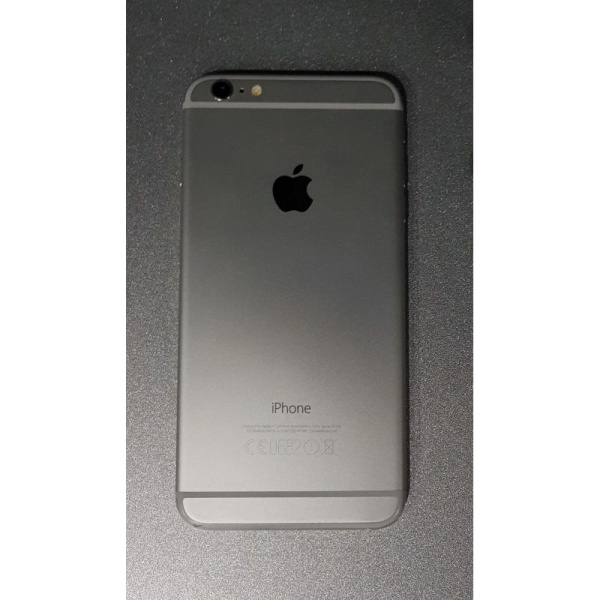apple: (260, 156, 342, 251)
